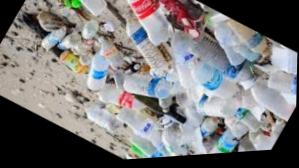plastic: (205, 6, 270, 65), (126, 8, 172, 75), (240, 66, 296, 120), (180, 48, 239, 99), (118, 63, 175, 115), (151, 115, 205, 156), (127, 0, 174, 46), (187, 32, 229, 81), (0, 19, 44, 58), (158, 0, 203, 38), (191, 83, 238, 118), (34, 52, 72, 92), (207, 18, 241, 62), (259, 65, 296, 102), (172, 28, 203, 72), (173, 54, 201, 98), (57, 32, 94, 63), (139, 76, 176, 107), (86, 104, 122, 134), (0, 47, 38, 74), (227, 107, 261, 137), (131, 112, 162, 144), (225, 38, 261, 65), (190, 33, 222, 63), (241, 108, 276, 135), (128, 134, 168, 157), (211, 76, 242, 105), (203, 126, 237, 152), (94, 35, 122, 66), (118, 108, 151, 134), (271, 41, 296, 74), (101, 44, 130, 72), (87, 52, 108, 90), (126, 11, 148, 46), (53, 3, 81, 30), (159, 106, 185, 134), (179, 101, 203, 131), (59, 50, 87, 73), (123, 72, 152, 94), (249, 128, 279, 149), (113, 25, 135, 53), (200, 116, 224, 141), (235, 61, 255, 90), (245, 28, 267, 54), (225, 116, 248, 139), (42, 27, 65, 49), (47, 0, 74, 18), (98, 18, 121, 37), (157, 93, 177, 114), (99, 84, 121, 103), (253, 64, 272, 86), (169, 96, 185, 122), (81, 0, 106, 16), (142, 63, 170, 77), (117, 91, 139, 108), (237, 131, 254, 150), (163, 65, 180, 84), (253, 65, 269, 85), (81, 20, 97, 39), (45, 0, 64, 16), (59, 50, 74, 68), (79, 46, 93, 65), (80, 37, 95, 53), (233, 107, 251, 119), (61, 0, 83, 9), (130, 62, 140, 72)
